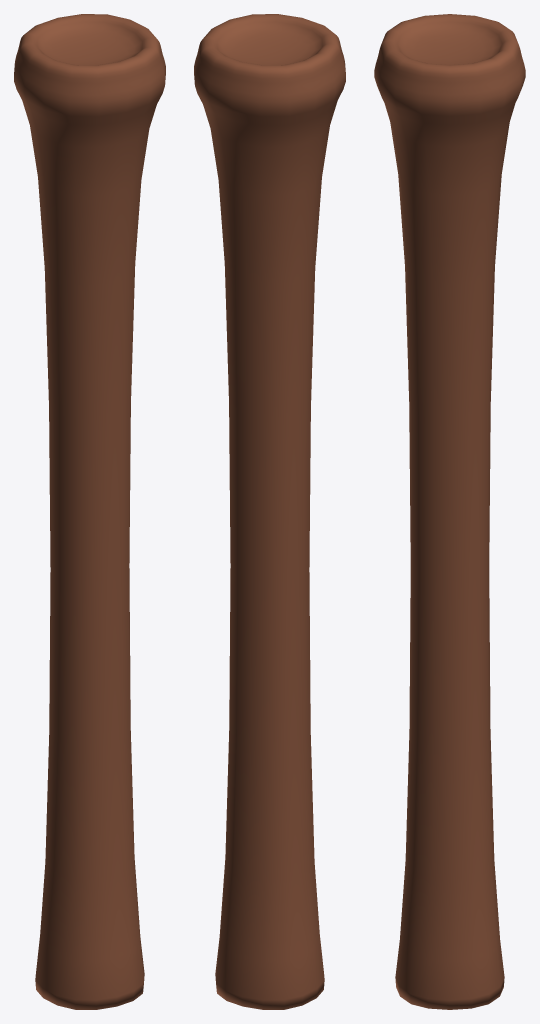
Rendered from Pochodnia.fbx.
The picture shows the model from 3 angles, left to right: view 1: azimuth 30°, elevation 25°; view 2: azimuth 150°, elevation 25°; view 3: azimuth 270°, elevation 25°; orthographic projection.
Parts seen in each view (by area): view 1: Cube; view 2: Cube; view 3: Cube.
Part boxes in pixels (bbox=[...]): Cube: bbox=[14, 14, 165, 1009]; Cube: bbox=[194, 14, 345, 1009]; Cube: bbox=[374, 14, 525, 1009].
Bounding box in the file's own units: 26.94 × 186 × 26.94.
